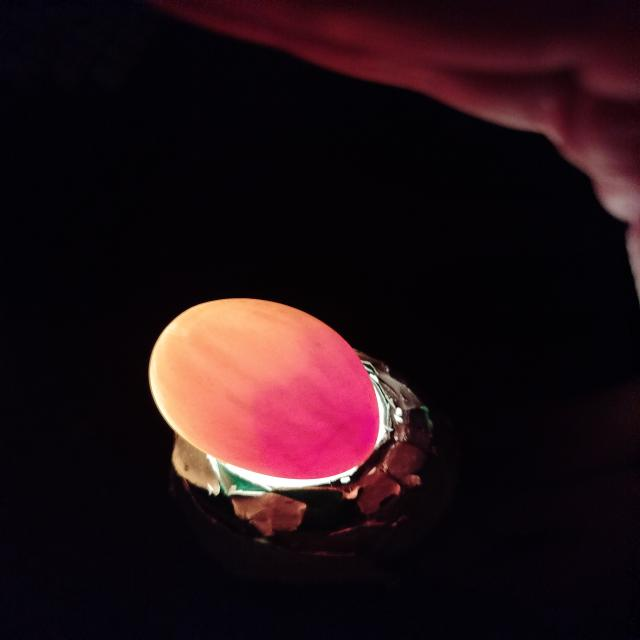Gema Quebrada: (225, 324, 379, 479)
